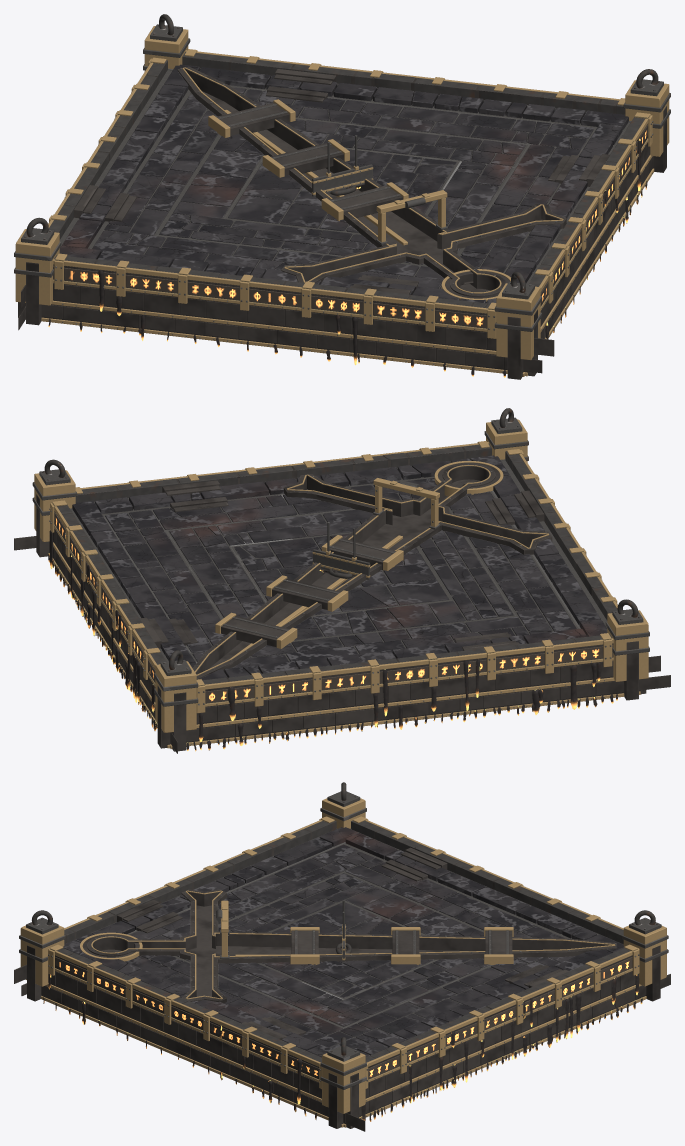
File: Forge.gltf
3 views of the same model, one above another, from view 1: azimuth 30°, elevation 25°; view 2: azimuth 150°, elevation 25°; view 3: azimuth 270°, elevation 25° (orthographic). The views are drawn at different scales.
Visible parts, largest first — view 1: Fascia3, Curb, Anchors, Fascia0, Slabs12, Slabs13, Slabs02, Bridges, Slabs10, Rim2, Slabs11, Slabs23 (+28 smaller); view 2: Fascia2, Curb, Fascia1, Anchors, Slabs12, Slabs13, Slabs10, Rim1, Bridges, Slabs11, Slabs01, Slabs23 (+29 smaller); view 3: Fascia1, Fascia0, Curb, Anchors, Slabs12, Slabs13, Slabs10, Slabs11, Slabs03, Slabs22, Slabs00, Rim3 (+24 smaller).
Boxes of the visible parts, x1,y1,x2,y2 form: Fascia3: [18, 253, 554, 377]; Curb: [177, 66, 566, 296]; Anchors: [14, 14, 670, 360]; Fascia0: [507, 112, 654, 379]; Slabs12: [207, 87, 593, 144]; Slabs13: [97, 93, 217, 243]; Slabs02: [199, 67, 628, 129]; Bridges: [208, 99, 408, 221]; Slabs10: [92, 233, 478, 288]; Rim2: [182, 52, 625, 114]; Slabs11: [460, 134, 587, 272]; Slabs23: [164, 134, 263, 231]; Fascia2: [157, 633, 670, 751]; Curb: [192, 463, 552, 679]; Fascia1: [48, 500, 186, 753]; Anchors: [32, 408, 649, 732]; Slabs12: [105, 512, 250, 661]; Slabs13: [231, 616, 552, 668]; Slabs10: [428, 489, 576, 631]; Rim1: [75, 443, 491, 502]; Bridges: [215, 535, 403, 648]; Slabs11: [129, 478, 436, 529]; Slabs01: [95, 455, 502, 513]; Slabs23: [293, 594, 497, 640]; Fascia1: [328, 944, 670, 1128]; Fascia0: [41, 944, 365, 1131]; Curb: [87, 889, 616, 1003]; Anchors: [19, 782, 668, 1113]; Slabs12: [330, 956, 574, 1049]; Slabs13: [342, 851, 564, 938]; Slabs10: [130, 844, 358, 959]; Slabs11: [125, 955, 352, 1047]; Slabs03: [345, 833, 624, 952]; Slabs22: [327, 958, 489, 1026]; Slabs00: [75, 827, 357, 942]; Rim3: [351, 820, 623, 944].
Size of the model in its own units: 34.36 by 5.51 by 33.9.
Materials: 8 (8 with a texture image).
